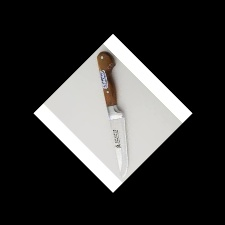k1: (106, 104, 130, 181)
